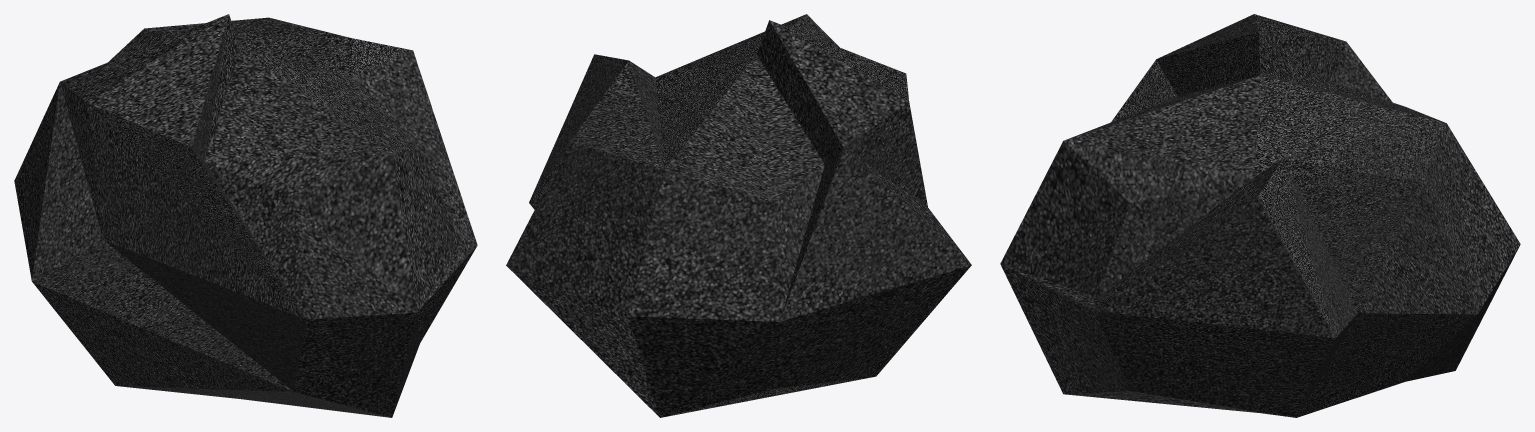
File: asteroid.obj
3 renders of one model, left to right at view 1: azimuth 30°, elevation 25°; view 2: azimuth 150°, elevation 25°; view 3: azimuth 270°, elevation 25°, orthographic. The views are drawn at different scales.
Parts seen in each view (by area): view 1: SimpleAsteroid; view 2: SimpleAsteroid; view 3: SimpleAsteroid.
Boxes of the visible parts, x1,y1,x2,y2 form: SimpleAsteroid: (14,14,477,417); SimpleAsteroid: (506,14,971,417); SimpleAsteroid: (1000,14,1520,417).
Size of the model in its own units: 2.49 by 2.22 by 2.79.
